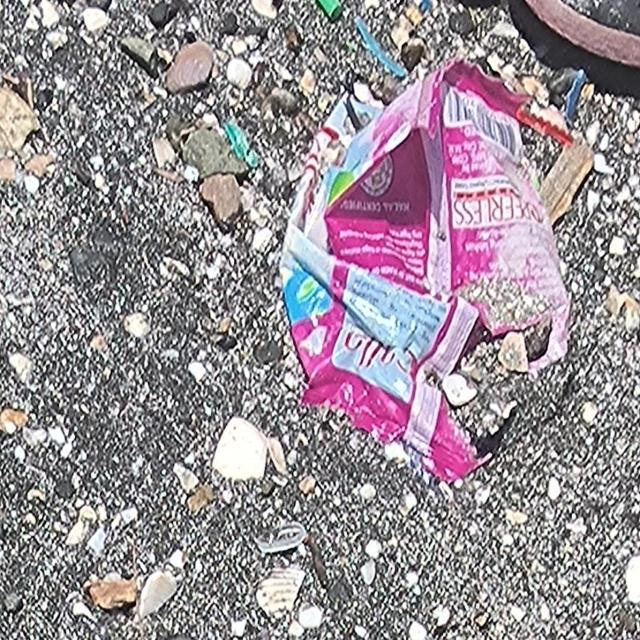litter: (277, 55, 575, 484)
